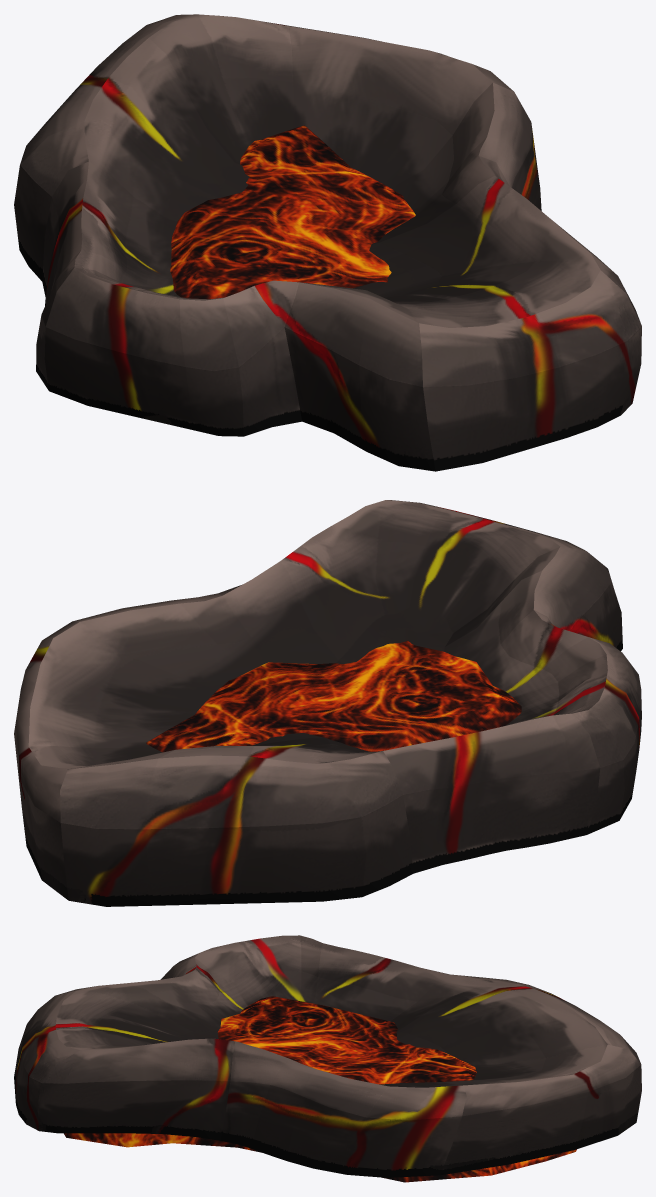
The model's file is Props_LavaPit_broken.FBX.
The picture shows the model from 3 angles, top to bottom: view 1: azimuth 30°, elevation 25°; view 2: azimuth 150°, elevation 25°; view 3: azimuth 270°, elevation 25°; orthographic projection. The views are drawn at different scales.
Visible parts, largest first — view 1: Lava pit broken_lp, Box023; view 2: Lava pit broken_lp, Box023; view 3: Lava pit broken_lp, Box023.
Boxes of the visible parts, x1,y1,x2,y2 form: Lava pit broken_lp: (14, 14, 641, 471); Box023: (170, 125, 415, 299); Lava pit broken_lp: (14, 500, 641, 906); Box023: (146, 641, 521, 752); Lava pit broken_lp: (14, 935, 641, 1177); Box023: (64, 996, 576, 1182).
Size of the model in its own units: 88.66 by 24.02 by 125.
